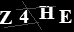4: (18, 9, 30, 24)
E: (58, 9, 73, 24)
H: (37, 5, 56, 20)
Z: (1, 10, 12, 25)
